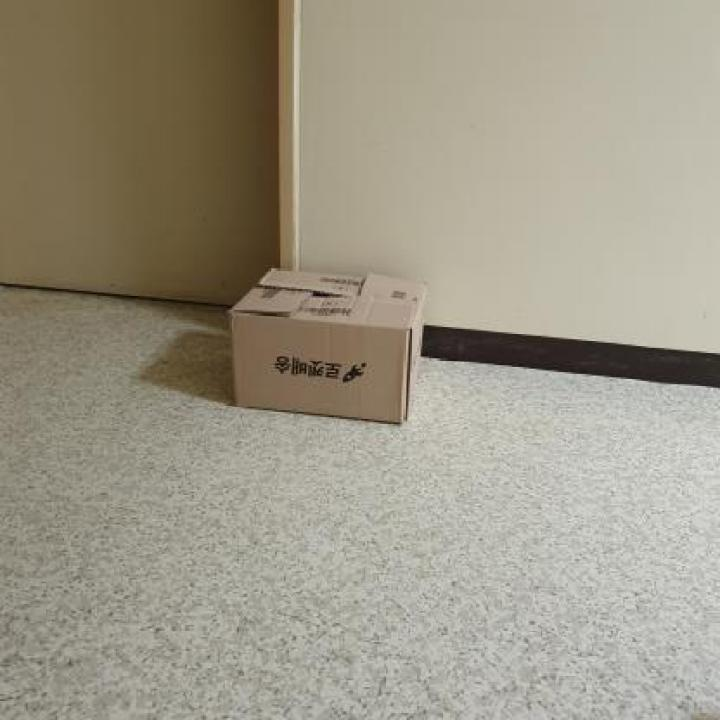box: (224, 255, 435, 432)
